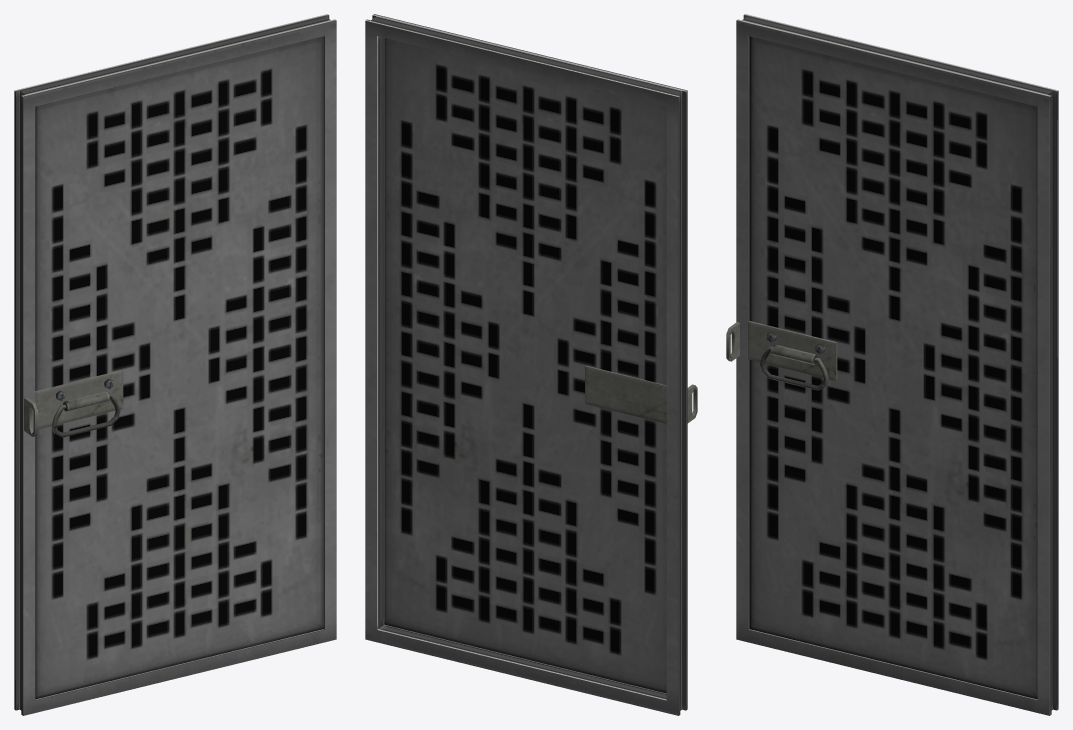
File: ctl_locker_military_door_lt_lod0.glb
3 views of the same model, side by side, from view 1: azimuth 30°, elevation 25°; view 2: azimuth 150°, elevation 25°; view 3: azimuth 330°, elevation 25° (orthographic).
Parts seen in each view (by area): view 1: surf0, surf1; view 2: surf0, surf1; view 3: surf0, surf1.
Boxes of the visible parts, x1,y1,x2,y2 form: surf0: [35, 36, 323, 699]; surf1: [14, 14, 336, 715]; surf0: [384, 38, 666, 693]; surf1: [365, 14, 697, 715]; surf0: [749, 36, 1037, 699]; surf1: [726, 14, 1058, 715].
Size of the model in its own units: 19.75 by 37.25 by 2.18.
